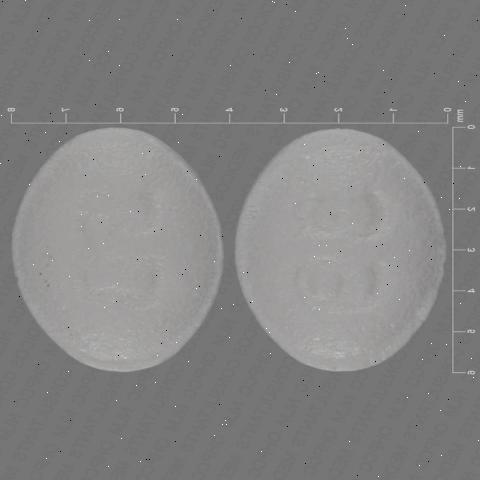Pill: (227, 108, 463, 401), (8, 101, 237, 401)
